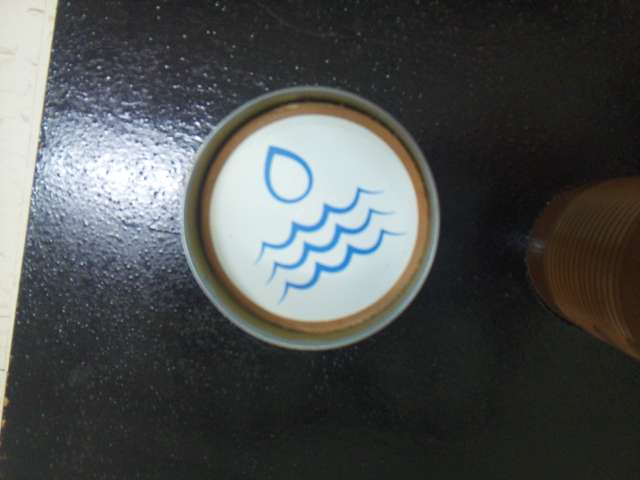water_barrel: (234, 111, 415, 312)
